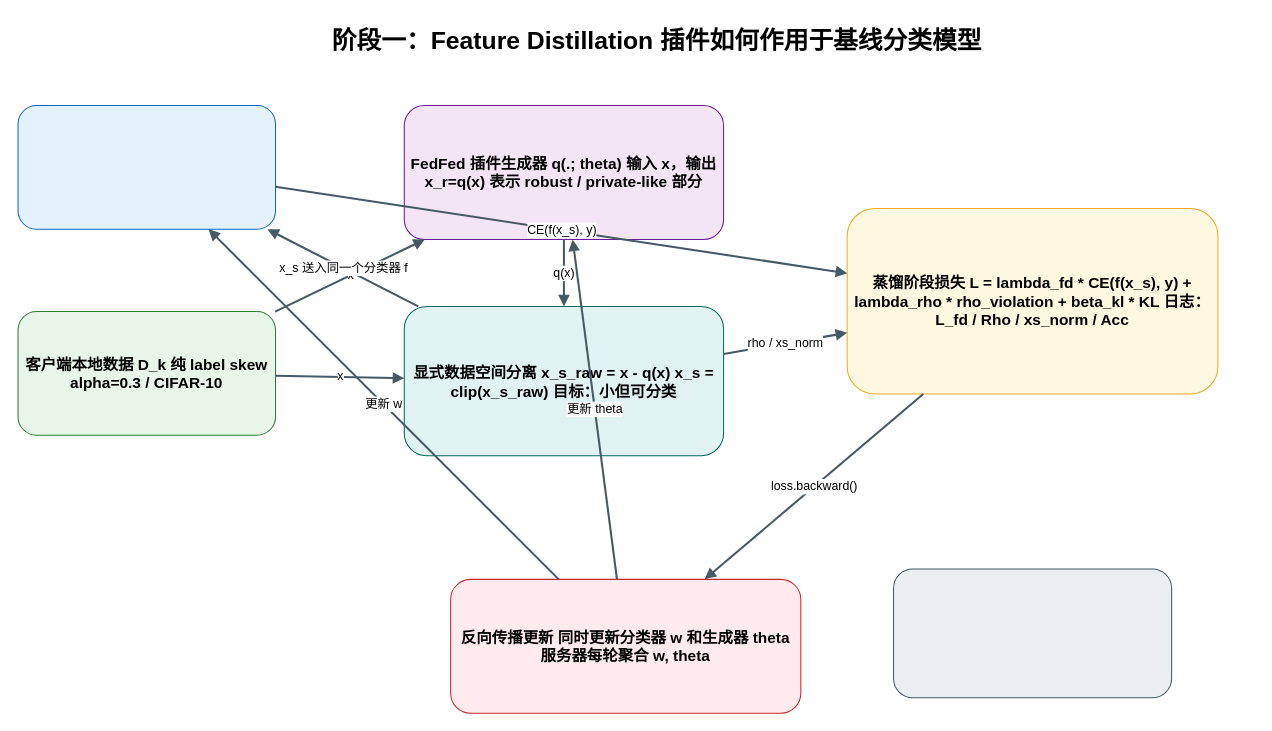
Some shapes in this 1272 by 731 pixel diagram are drawn without their labels. Here are the shapes that lost their labels. From the top down, the box of each, then its label:
(17, 105, 276, 229): FedAvg 基线分类模型 f(.; w) ResNet18 / 普通 CE 训练入口保留
(892, 568, 1172, 698): 当前默认 distill_rounds = 30 distill_local_epoch = 2 c_fraction = 0.2
